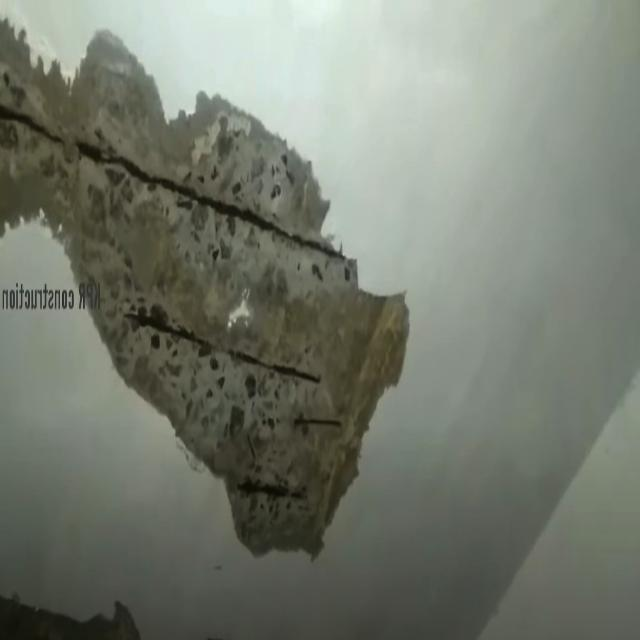Spalling: (0, 13, 411, 567)
